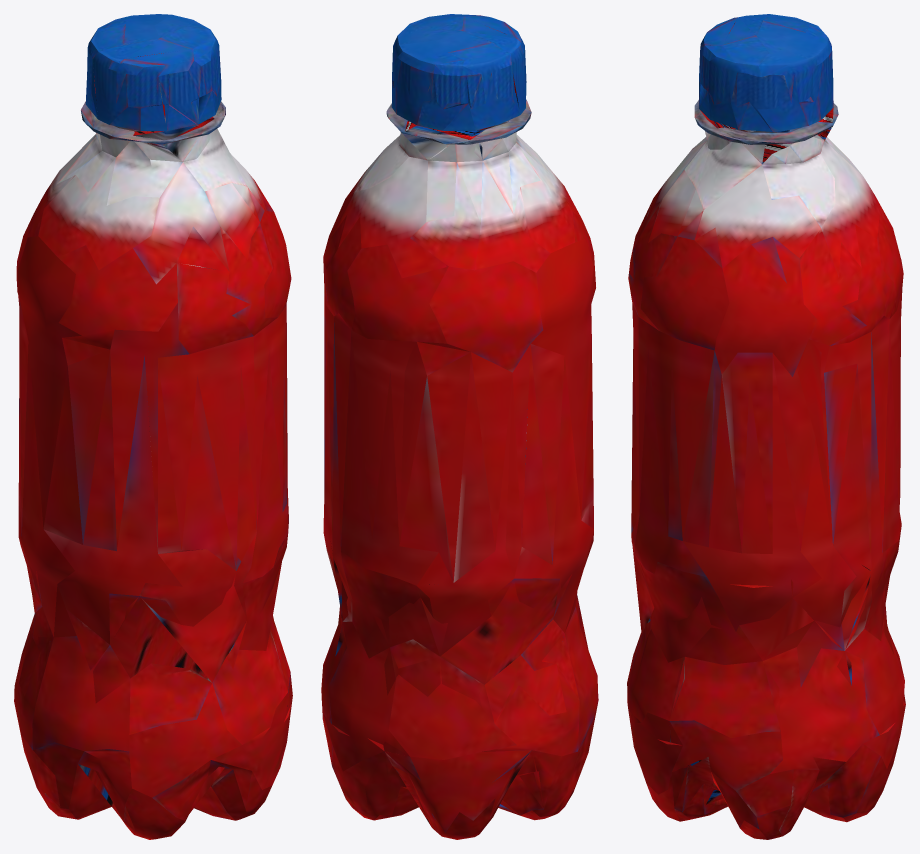
The model's file is w3soda.glb.
The picture shows the model from 3 angles, left to right: view 1: azimuth 30°, elevation 25°; view 2: azimuth 150°, elevation 25°; view 3: azimuth 270°, elevation 25°; orthographic projection.
Parts seen in each view (by area): view 1: w3soda_near, w3soda_far; view 2: w3soda_near, w3soda_far; view 3: w3soda_near, w3soda_far.
Boxes of the visible parts, x1=… form: w3soda_near: x1=14, y1=14, x2=292, y2=839; w3soda_far: x1=18, y1=46, x2=287, y2=820; w3soda_near: x1=321, y1=14, x2=598, y2=839; w3soda_far: x1=324, y1=15, x2=593, y2=825; w3soda_near: x1=627, y1=14, x2=905, y2=839; w3soda_far: x1=631, y1=17, x2=905, y2=805.
Size of the model in its own units: 0.0731 by 0.22 by 0.073.
Materials: 1 (1 with a texture image).
